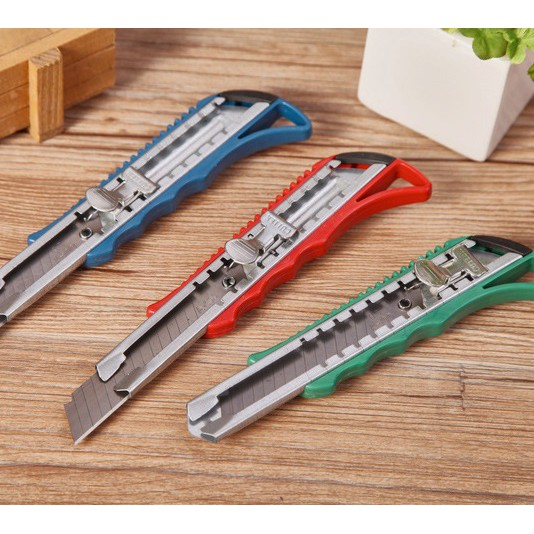cutter: (65, 149, 435, 444), (1, 87, 313, 331), (185, 233, 534, 443)
